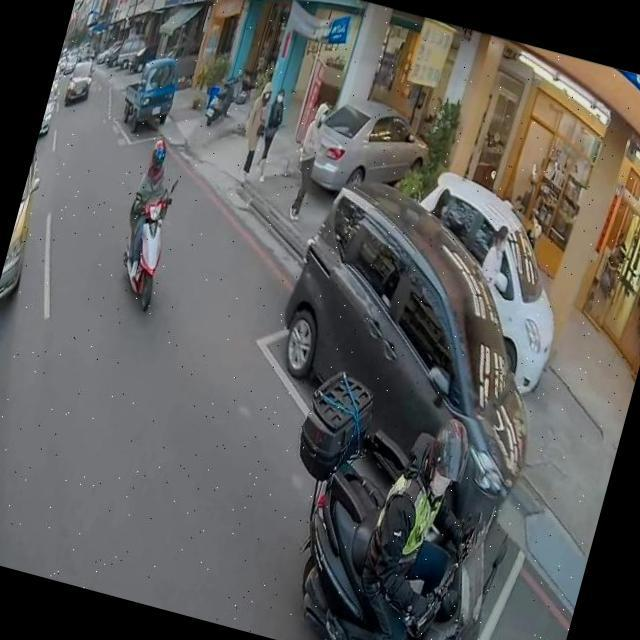person: (335, 396, 504, 640), (113, 133, 190, 287), (280, 90, 338, 223), (232, 79, 280, 181), (247, 83, 290, 185), (474, 221, 517, 300), (428, 177, 458, 224)
